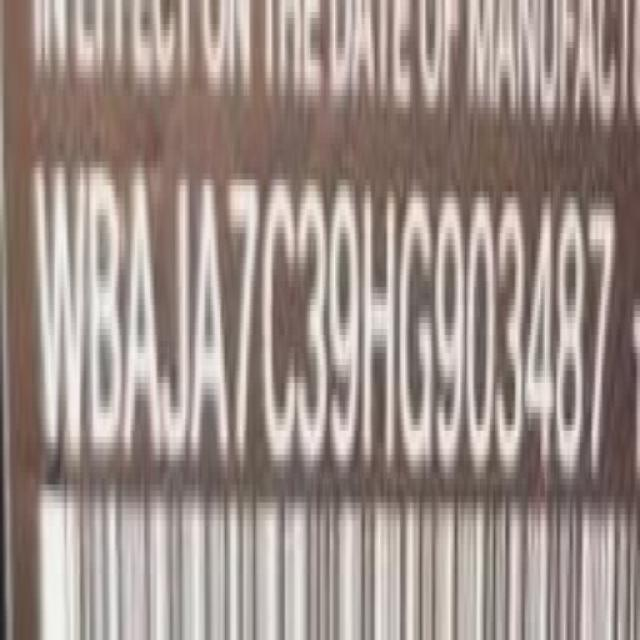0: (465, 194, 495, 482)
3: (297, 175, 328, 467), (499, 202, 528, 484)
4: (526, 202, 556, 484)
7: (227, 170, 259, 478), (589, 202, 619, 489)
8: (554, 204, 584, 485)
9: (434, 195, 466, 481), (329, 182, 359, 476)
A: (193, 177, 230, 476), (126, 167, 162, 470)
B: (90, 162, 126, 462)
C: (261, 179, 298, 478)
G: (399, 193, 434, 479)
H: (363, 186, 397, 480)
J: (161, 171, 192, 468)
W: (33, 158, 87, 466)
